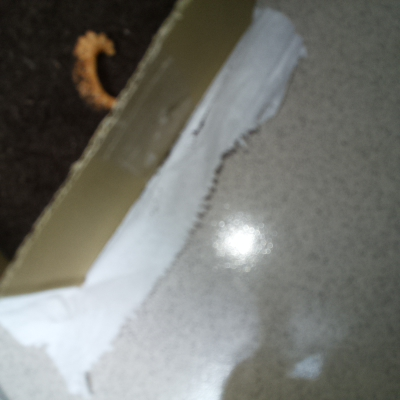eggs: (65, 27, 136, 122)
